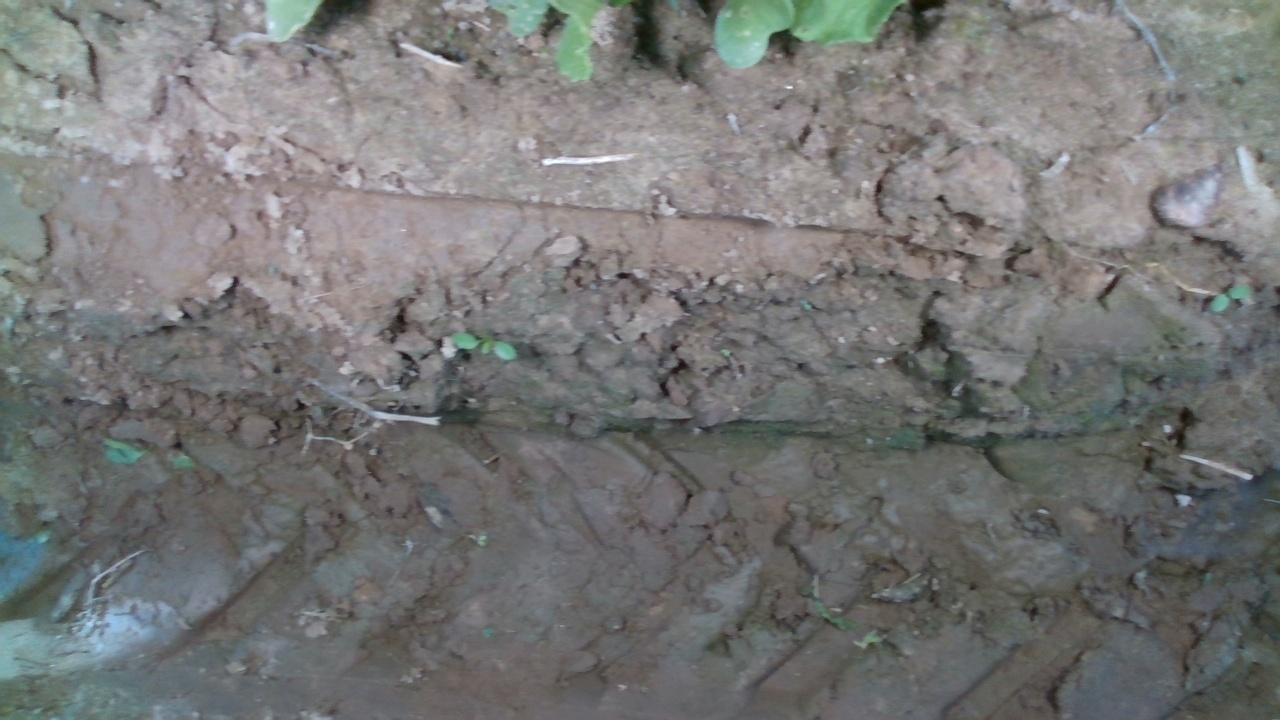weed: (448, 330, 519, 363), (1207, 282, 1254, 315)
